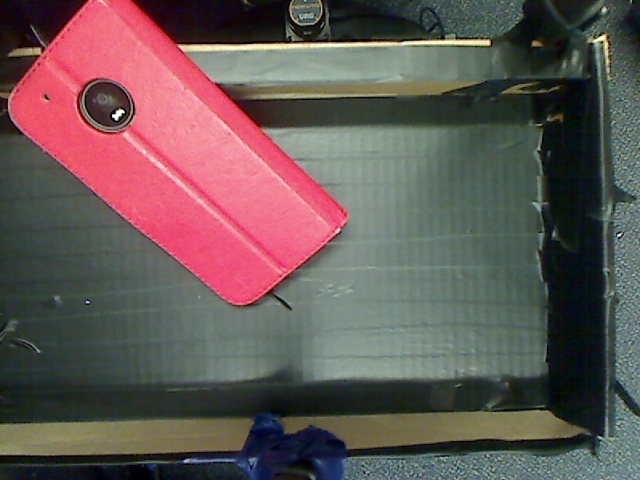phone: (17, 1, 369, 313)
